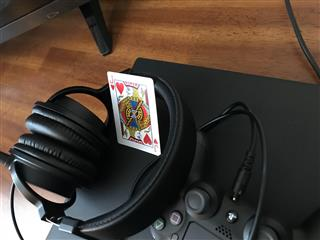JackOfHearts: (106, 70, 161, 156)
